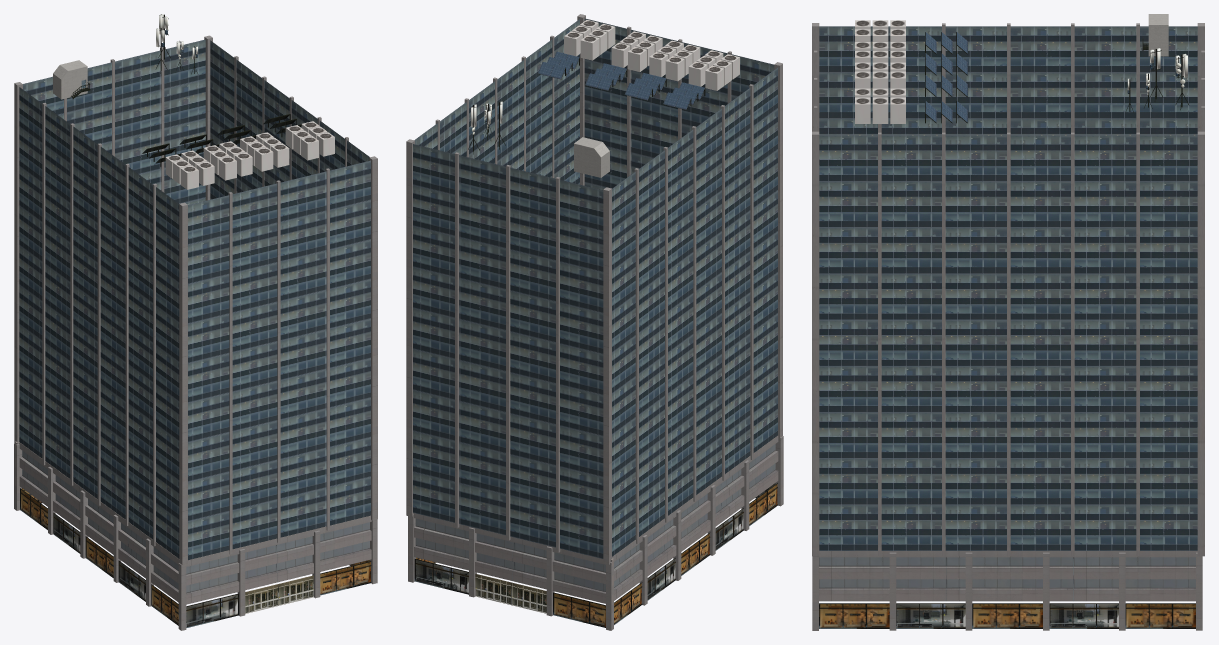
Rendered from beautiful_03.gltf.
3 renders of one model, left to right at view 1: azimuth 30°, elevation 25°; view 2: azimuth 150°, elevation 25°; view 3: azimuth 270°, elevation 25°, orthographic. The views are drawn at different scales.
Parts seen in each view (by area): view 1: beautiful_03; view 2: beautiful_03; view 3: beautiful_03.
Boxes of the visible parts, x1,y1,x2,y2 form: beautiful_03: [14, 14, 377, 630]; beautiful_03: [406, 14, 783, 630]; beautiful_03: [812, 14, 1204, 630].
Bounding box in the file's own units: 23.69 × 53.62 × 35.06.
Materials: 2 (2 with a texture image).
